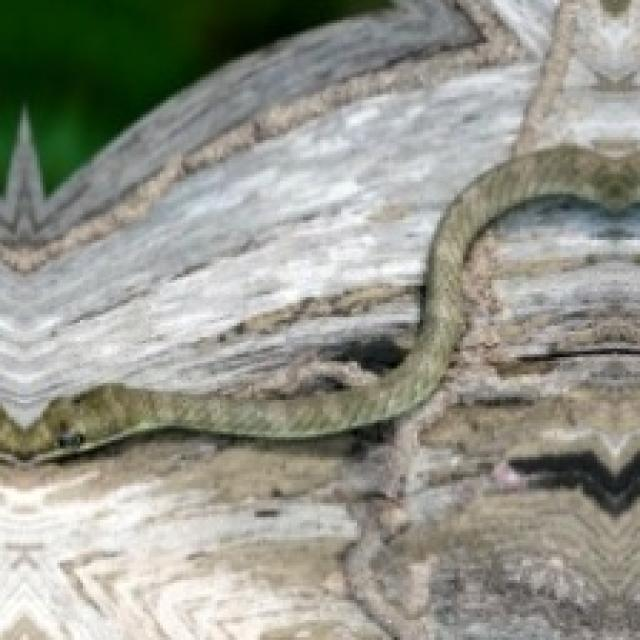paradise tree snake: (0, 0, 637, 460), (183, 274, 423, 397)
